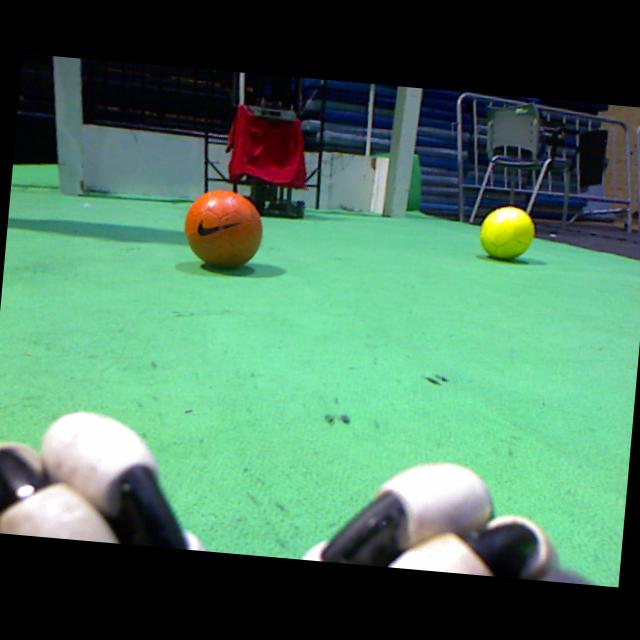ball: (184, 191, 261, 267), (480, 207, 533, 258)
goal: (52, 56, 85, 197), (390, 87, 422, 218)
